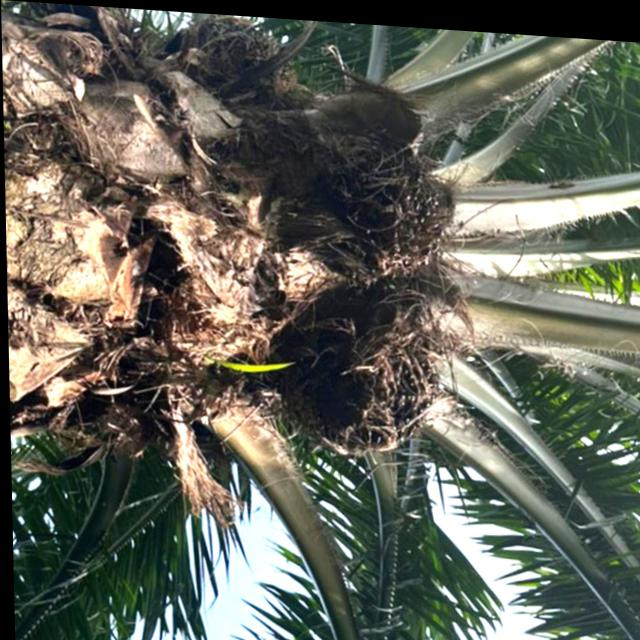unripe: (271, 276, 450, 459), (295, 100, 460, 276)
